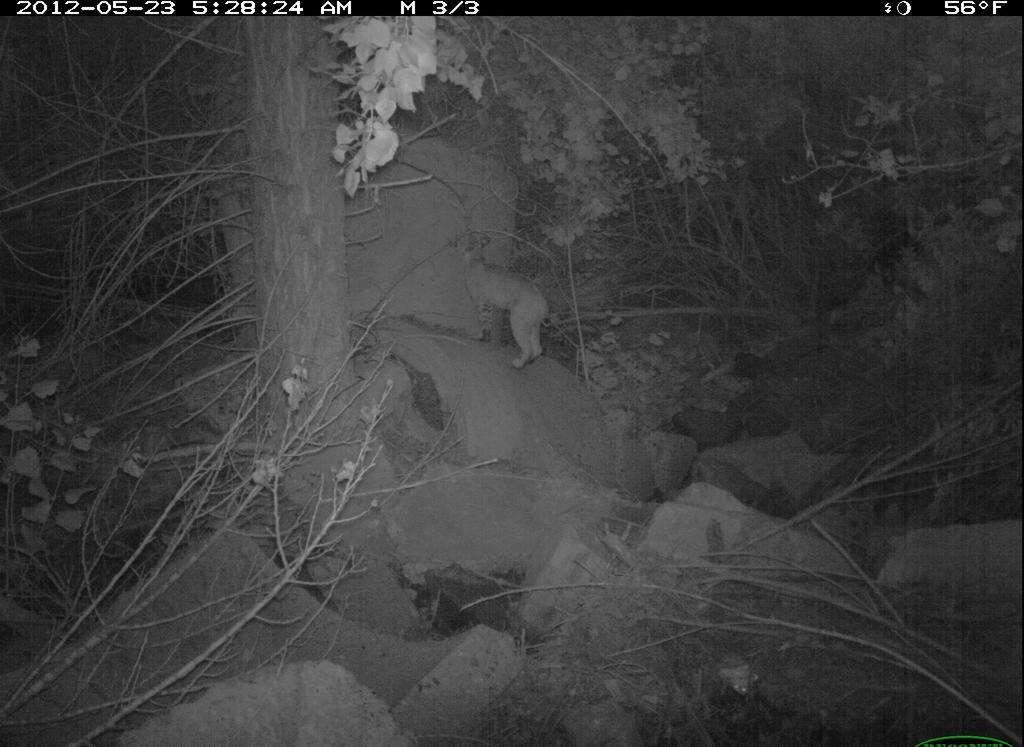bobcat: (446, 230, 559, 373)
